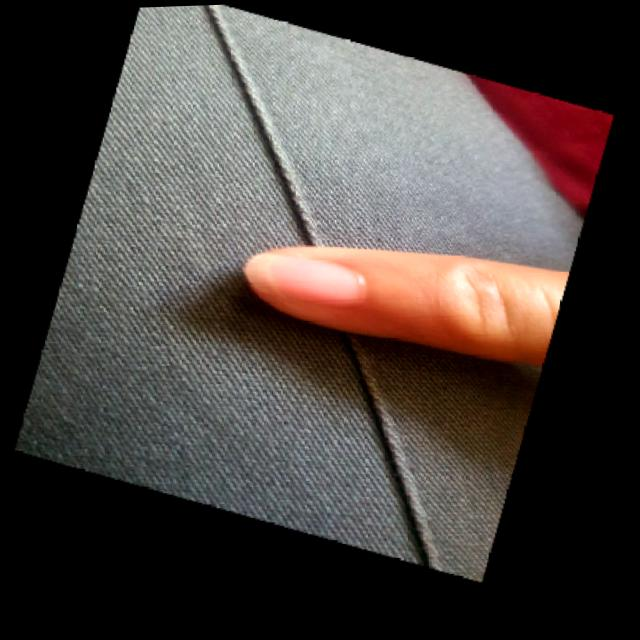Nail: (245, 254, 365, 307)
